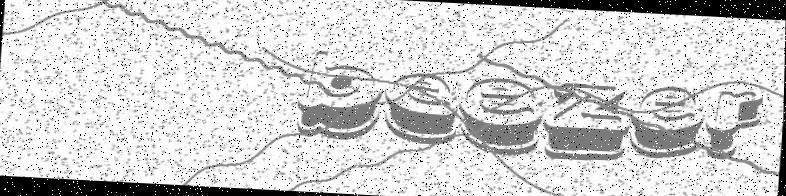b: (293, 44, 386, 143)
e: (455, 76, 544, 157), (379, 68, 464, 147), (631, 85, 707, 161), (705, 87, 769, 162)
z: (545, 79, 635, 165)
